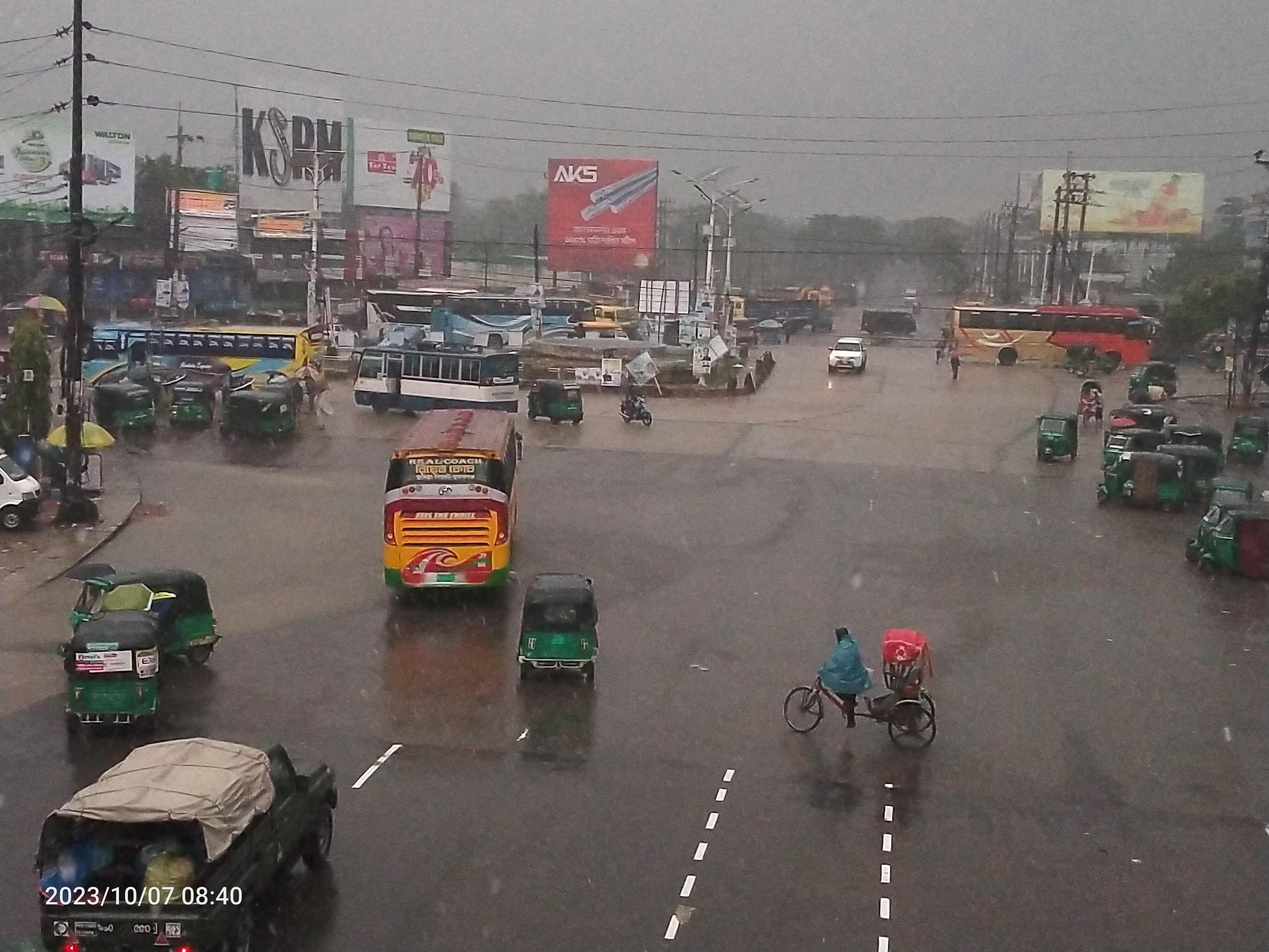Bike: (595, 370, 674, 435)
Bus: (63, 288, 351, 424), (938, 275, 1172, 399), (331, 317, 533, 440), (432, 284, 598, 380)
Car: (757, 613, 955, 769), (810, 329, 884, 384), (849, 297, 926, 341)
Truck: (0, 728, 387, 946)
